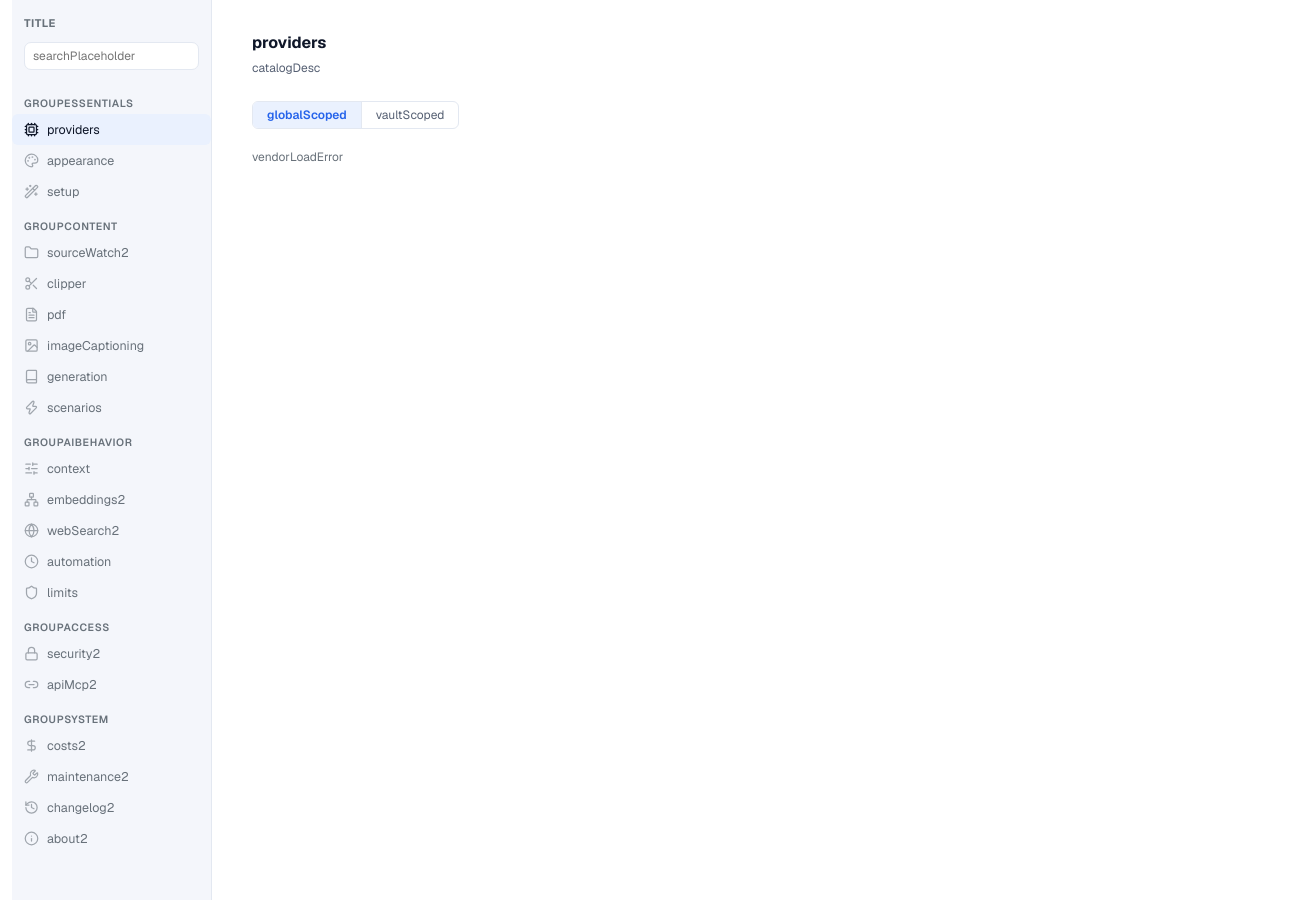
Test: SectionCosts — monthly total display (AC-R9-1-2) › renders costs-monthly-total after fetch resolves
Step 1. Click the button "costs2" → (112, 746), box x1=12 y1=730 x2=211 y2=761
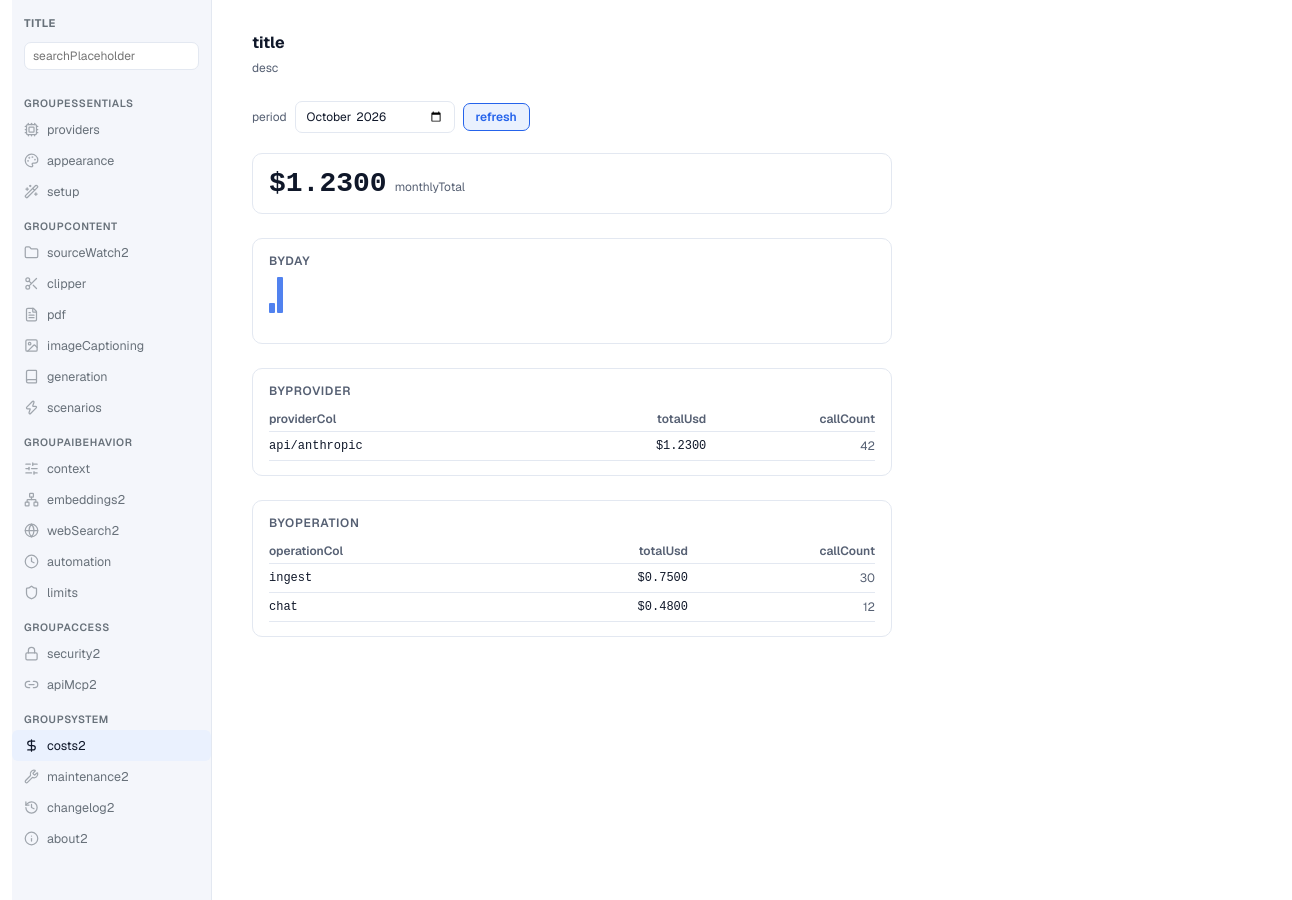
expect the text "$1.2300" is shown: met, box x1=269 y1=168 x2=387 y2=199
expect the text with test id "costs-monthly-total" shows "1.23": met, box x1=286 y1=168 x2=387 y2=199
